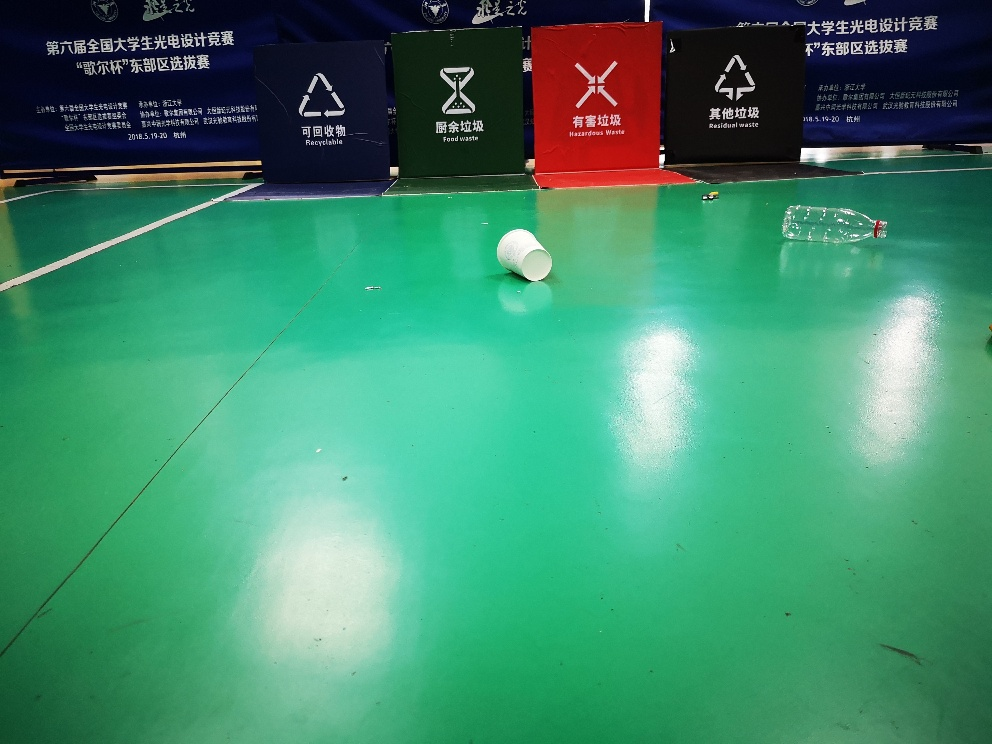bottle: (777, 201, 890, 246)
papercup: (495, 226, 555, 284)
